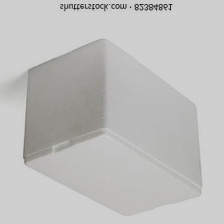foam_box: (18, 35, 208, 220)
